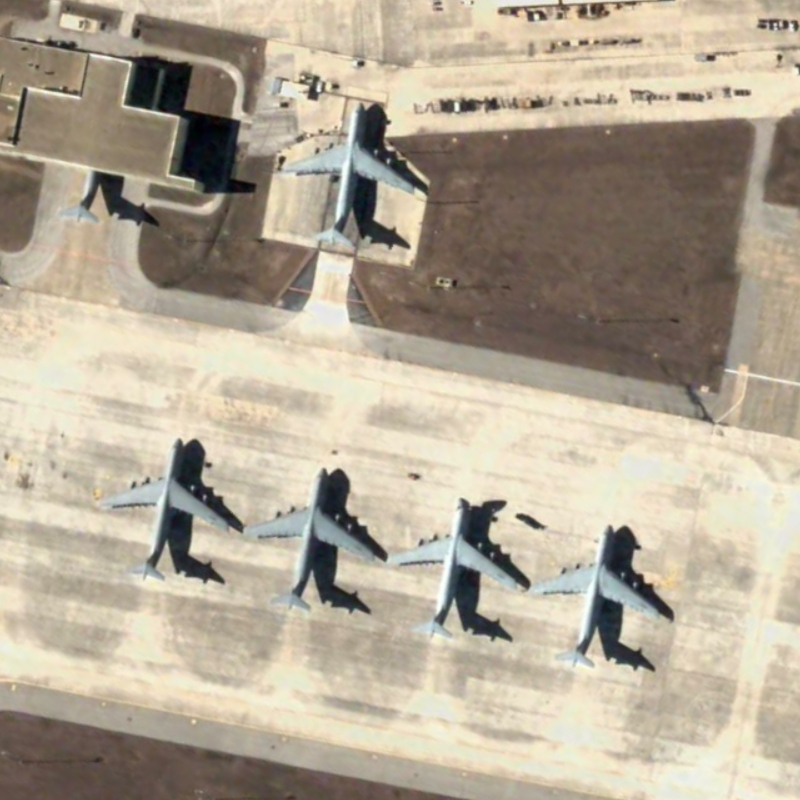A4: (271, 91, 426, 254), (383, 485, 528, 641), (243, 458, 382, 618), (530, 515, 669, 675), (94, 425, 234, 583)
